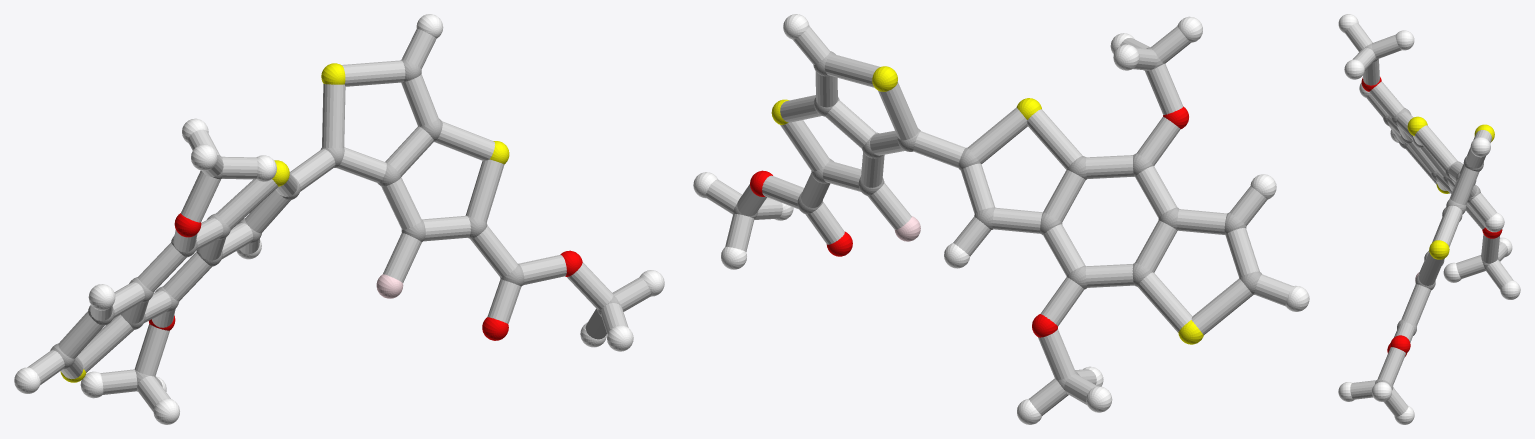
Rendered from color.glb.
The picture shows the model from 3 angles, left to right: view 1: azimuth 30°, elevation 25°; view 2: azimuth 150°, elevation 25°; view 3: azimuth 270°, elevation 25°; orthographic projection. The views are drawn at different scales.
Visible parts, largest first — view 1: grp15205, grp8689, grp1, grp13395, grp7241; view 2: grp15205, grp8689, grp1, grp7241, grp13395; view 3: grp15205, grp8689, grp1, grp7241, grp13395.
Boxes of the visible parts, x1=… form: grp15205: x1=27, y1=29, x2=651, y2=411; grp8689: x1=14, y1=14, x2=664, y2=424; grp1: x1=50, y1=59, x2=620, y2=391; grp13395: x1=149, y1=213, x2=582, y2=340; grp7241: x1=60, y1=63, x2=509, y2=382; grp15205: x1=706, y1=26, x2=1293, y2=415; grp8689: x1=693, y1=14, x2=1309, y2=424; grp1: x1=733, y1=47, x2=1261, y2=389; grp7241: x1=771, y1=66, x2=1203, y2=344; grp13395: x1=750, y1=106, x2=1188, y2=337; grp15205: x1=1345, y1=23, x2=1513, y2=416; grp8689: x1=1338, y1=14, x2=1520, y2=424; grp1: x1=1365, y1=43, x2=1499, y2=390; grp7241: x1=1407, y1=116, x2=1494, y2=259; grp13395: x1=1361, y1=77, x2=1502, y2=356.
Bounding box in the file's own units: 16.43 × 8.6 × 5.39.
